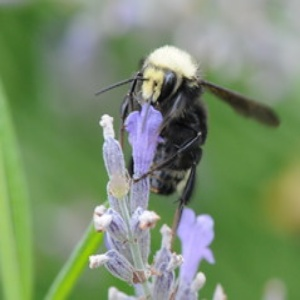bee: (97, 42, 285, 230)
